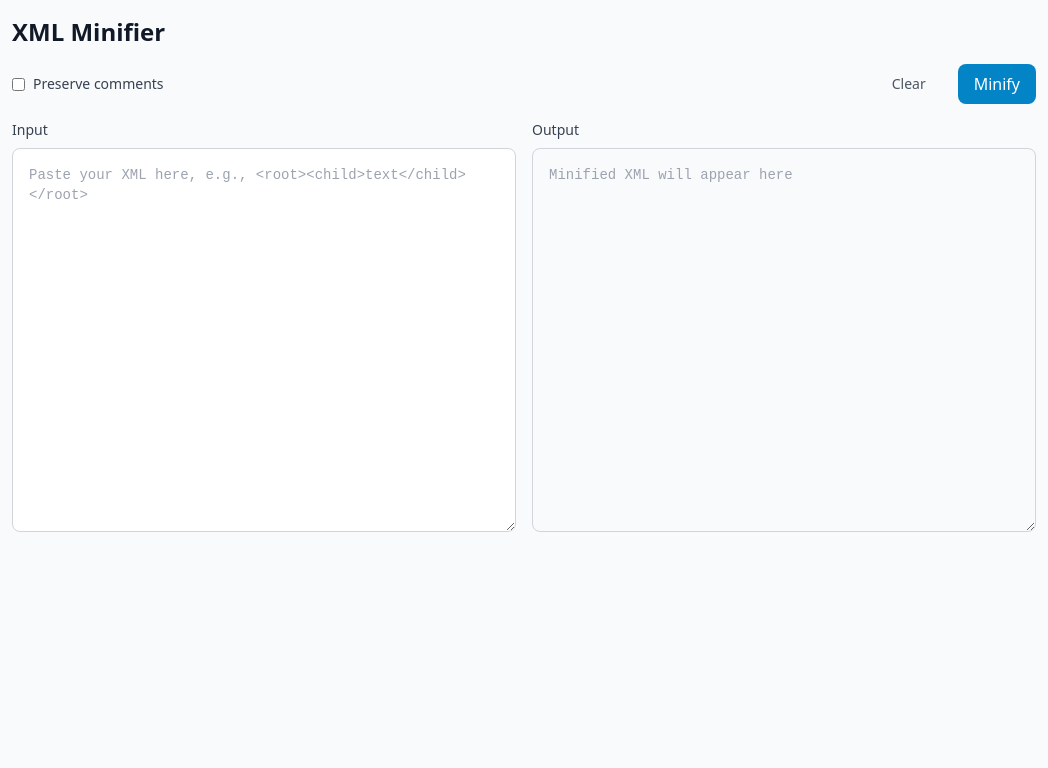
Scenario: XmlMinifier › clear button resets all
Type "<root/>" into the text box with placeholder "Paste your XML here, e.g., <root><child>text</child></root>" at [264, 340], box [12,148,516,532]
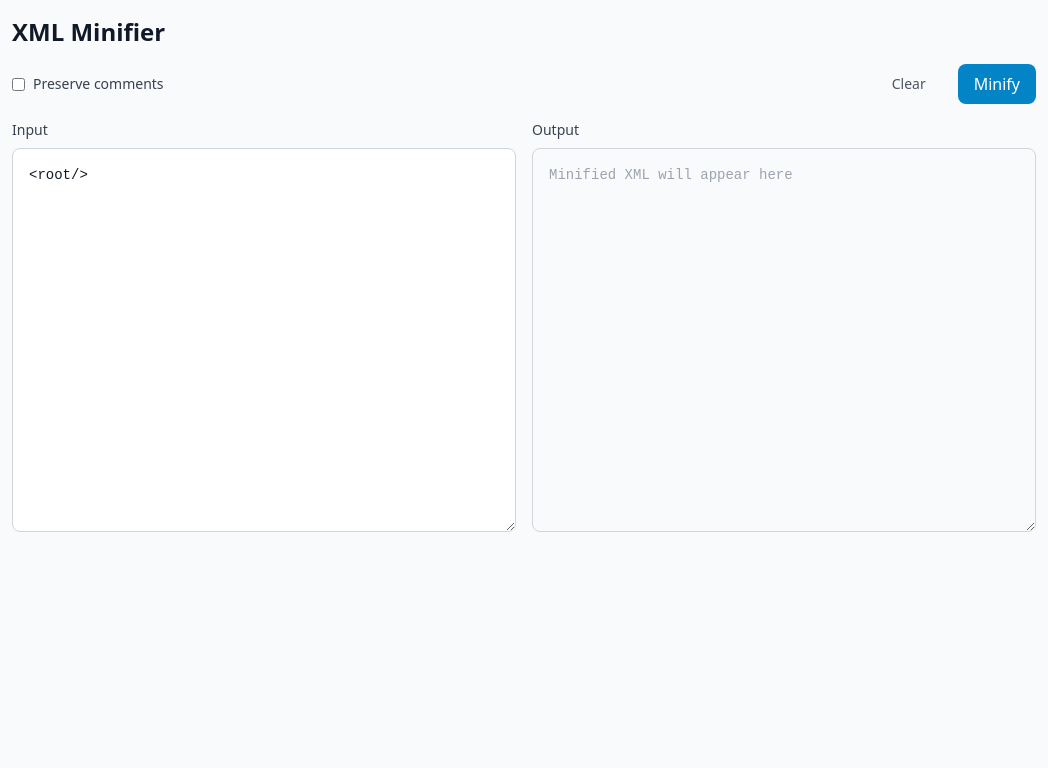
Click the button "Minify" at [997, 84], box [958,64,1036,104]
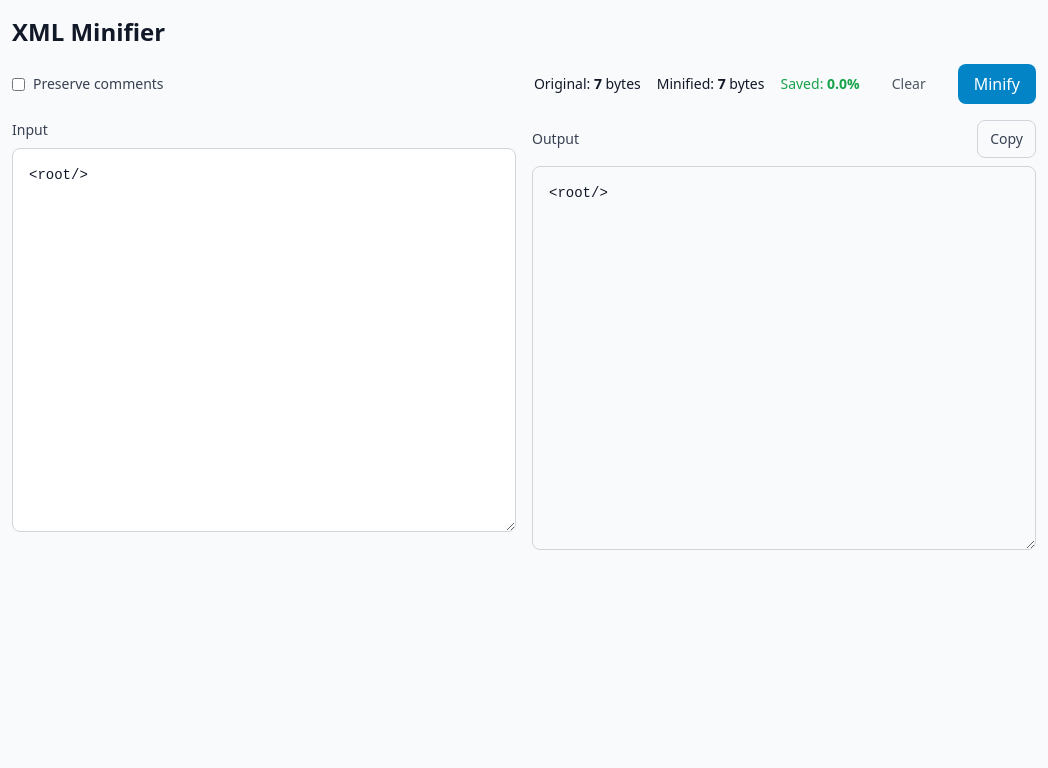
Click the button "Clear" at [909, 84], box [876,66,942,102]
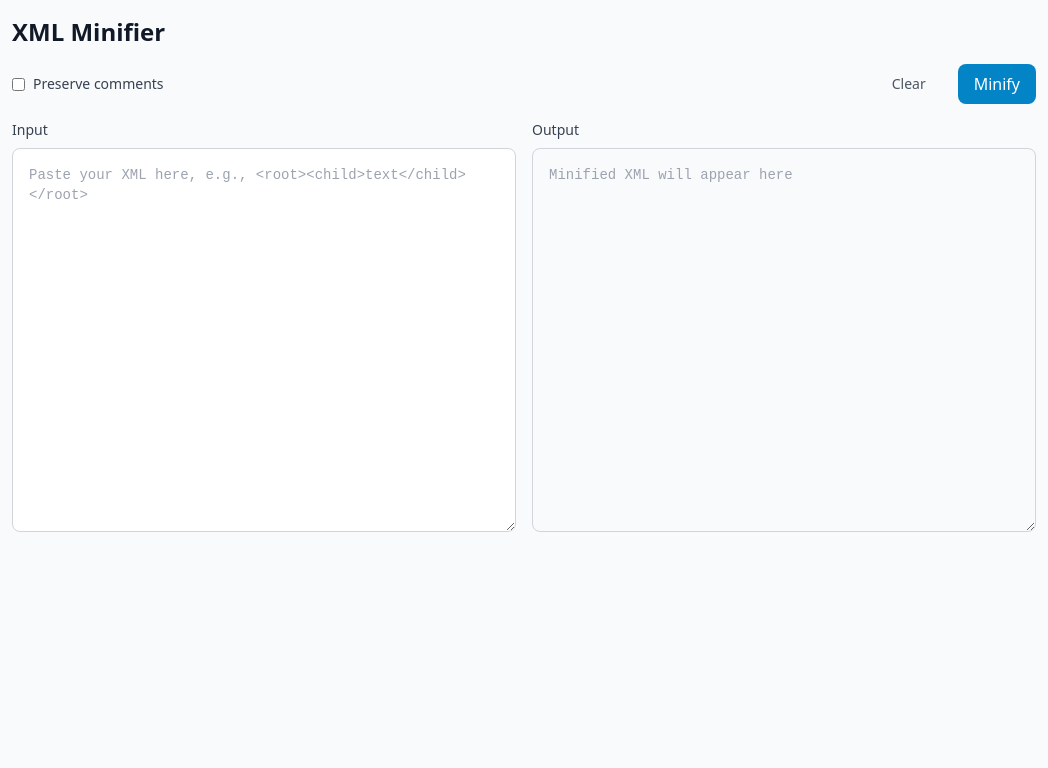
expect the text box with placeholder "Paste your XML here, e.g., <root><child>text</child></root>" is empty: met, box [12,148,516,532]
expect the text box with placeholder "Minified XML will appear here" is empty: met, box [532,148,1036,532]
expect the text "Original:" is gone: met
